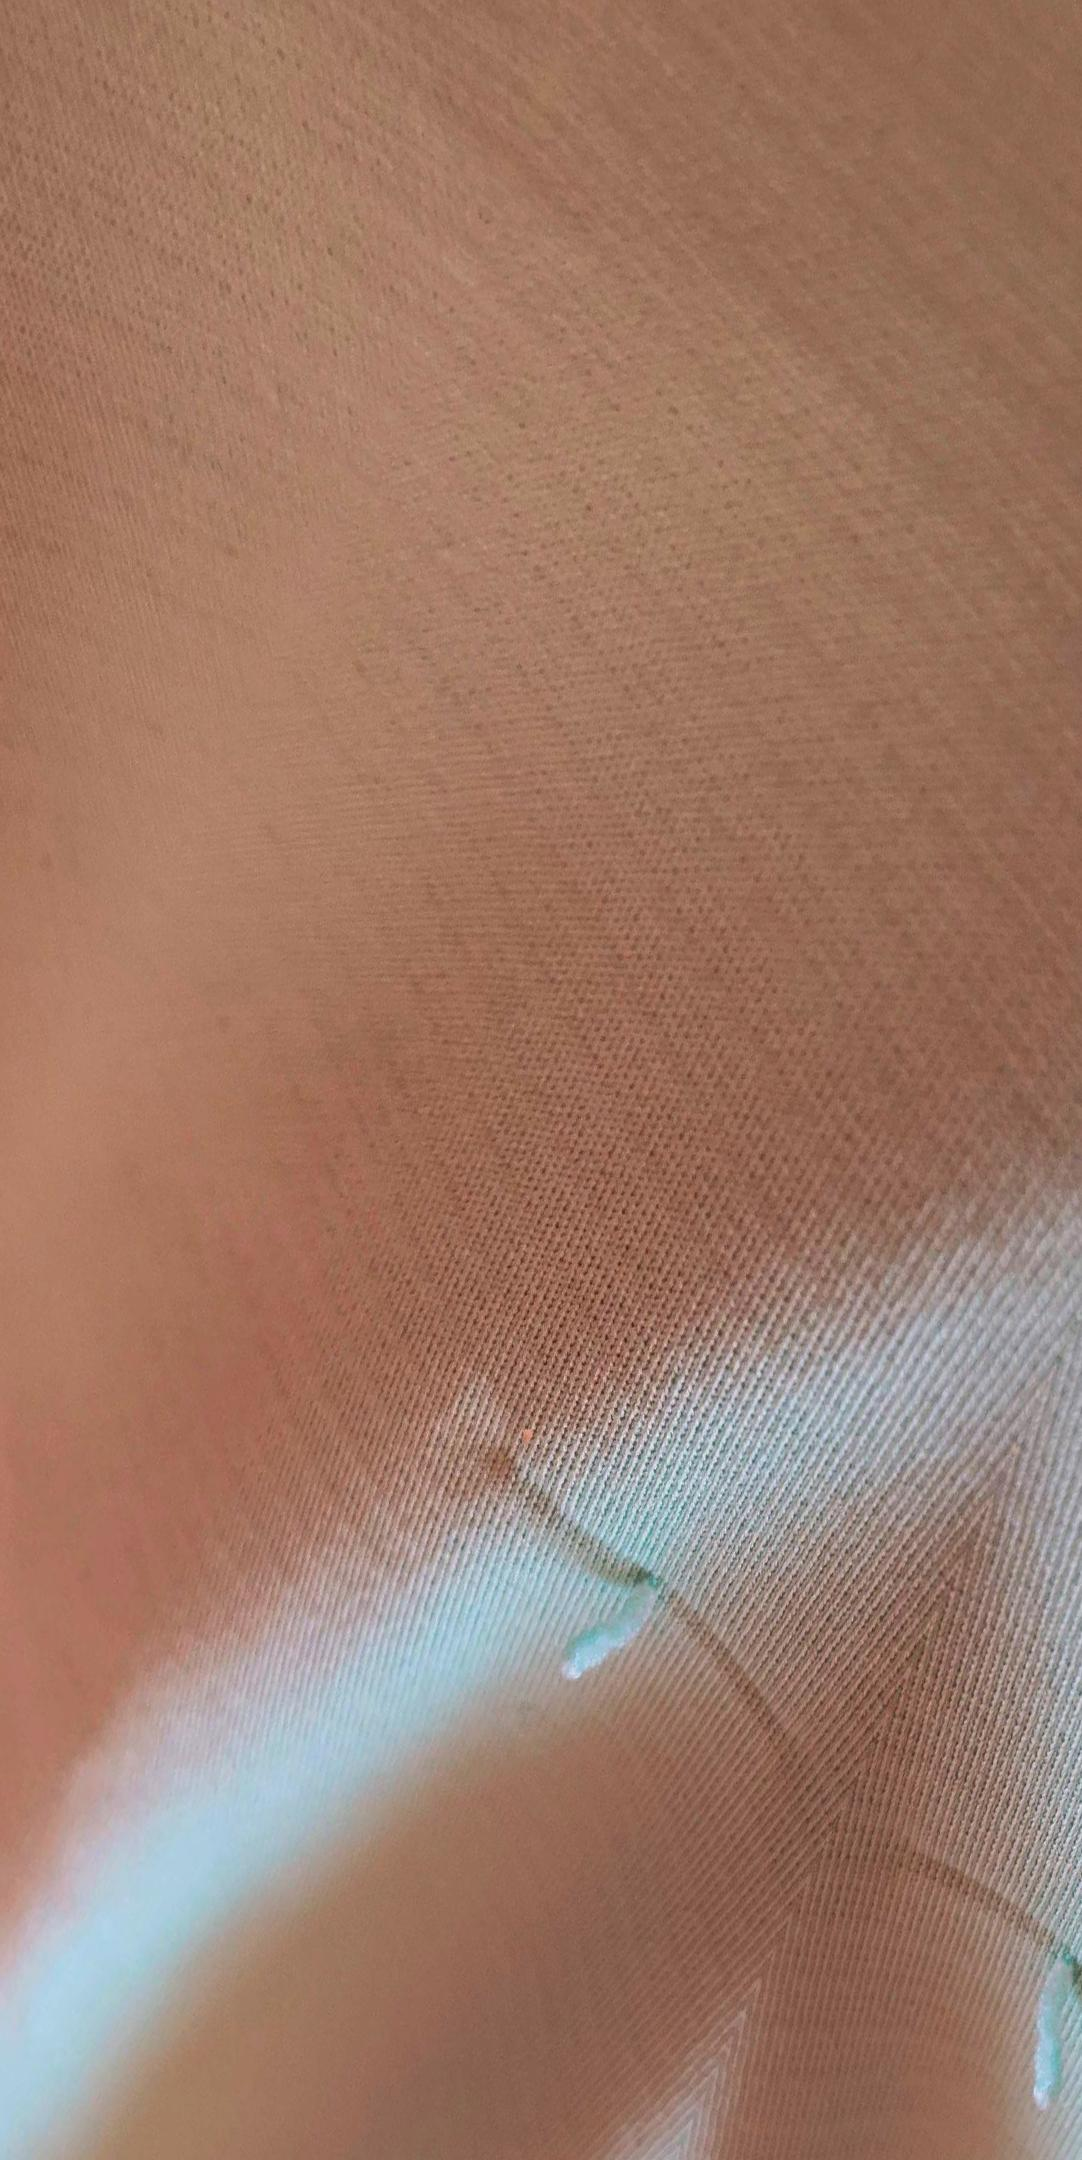snag: (489, 1508, 740, 1721), (995, 1892, 1078, 2139)
